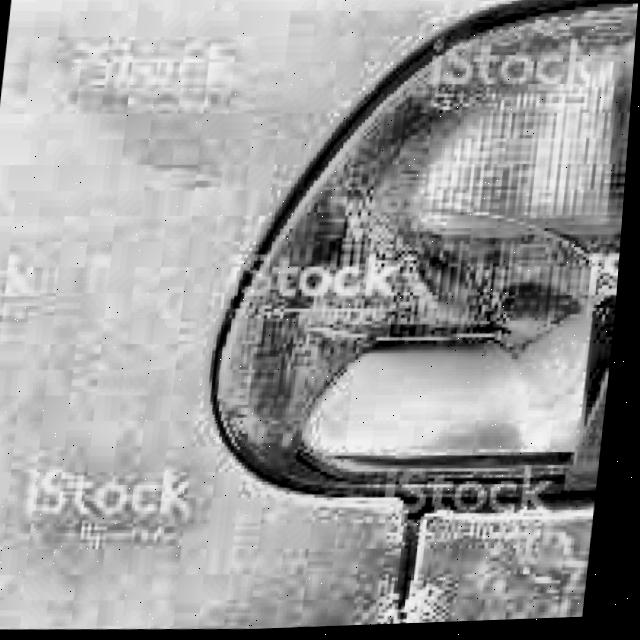tail_lamp: (271, 267, 618, 512)
